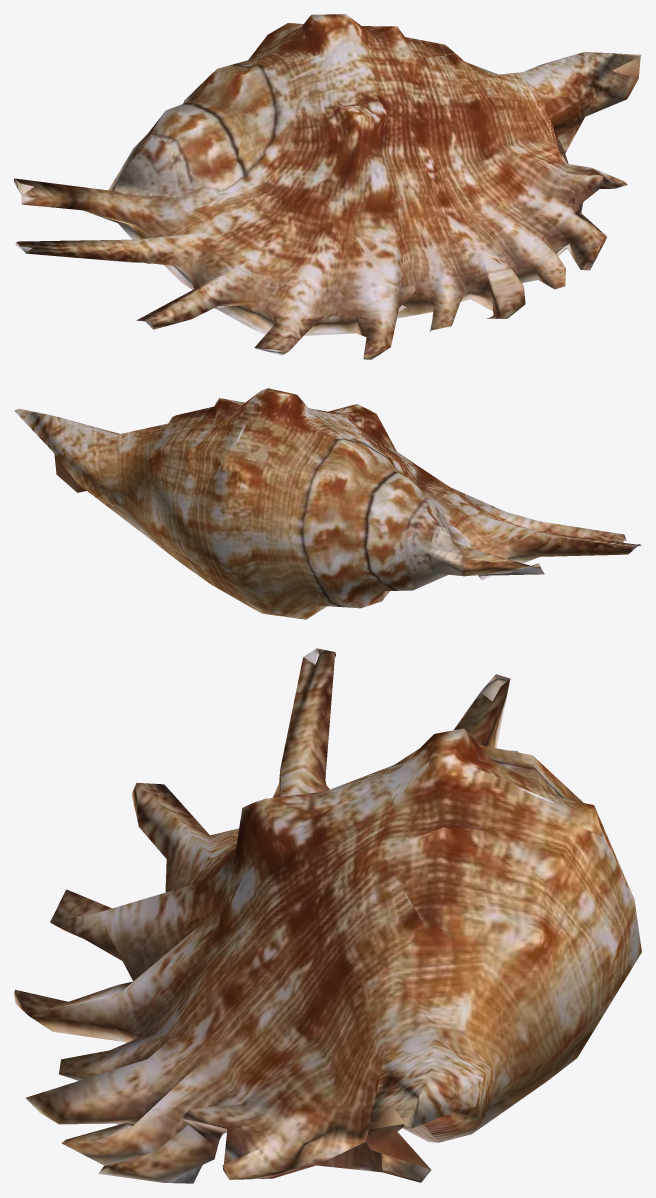
Rendered from lambis_shell.glb.
3 renders of one model, top to bottom at view 1: azimuth 30°, elevation 25°; view 2: azimuth 150°, elevation 25°; view 3: azimuth 270°, elevation 25°, orthographic. The views are drawn at different scales.
Parts seen in each view (by area): view 1: lambis_shell; view 2: lambis_shell; view 3: lambis_shell.
Part boxes in pixels (bbox=[...]): lambis_shell: bbox=[14, 14, 641, 359]; lambis_shell: bbox=[14, 388, 641, 619]; lambis_shell: bbox=[14, 648, 641, 1183].
Size of the model in its own units: 0.1387 by 0.0454 by 0.0744.
1 material, 1 textured.
